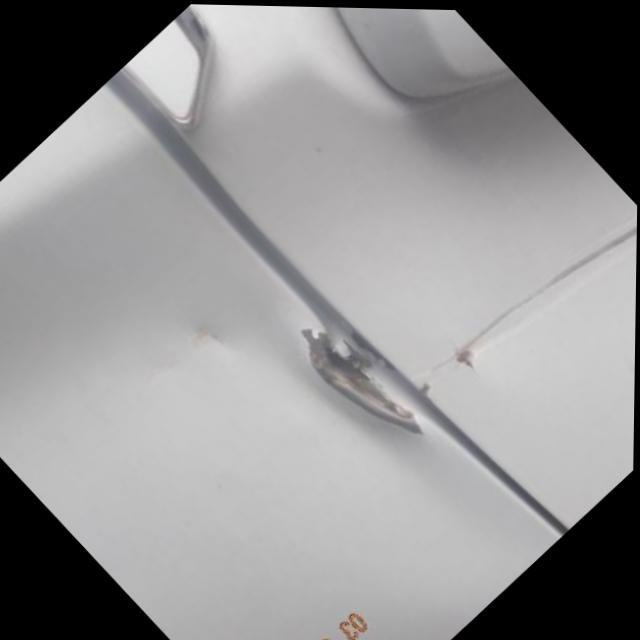crack: (301, 328, 434, 448), (346, 324, 400, 374)
scratch: (407, 216, 638, 402), (143, 315, 233, 391)
